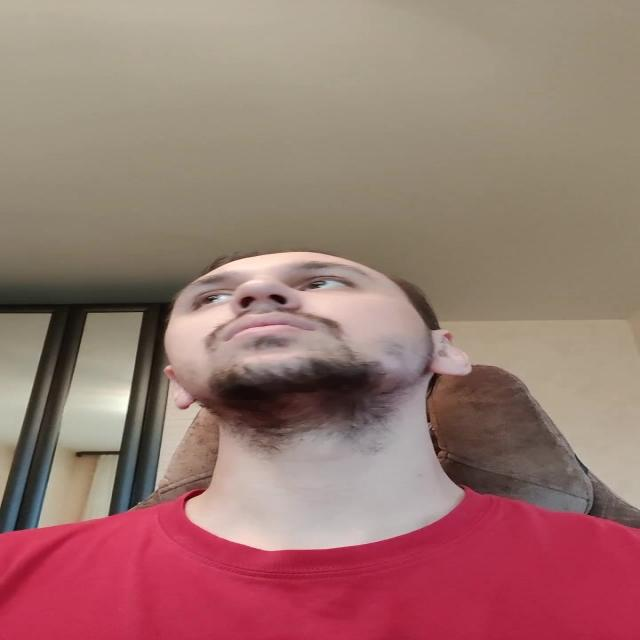earlobe: (430, 365, 472, 377), (175, 396, 197, 410)
eye: (296, 278, 354, 291), (189, 290, 233, 306)
nose: (233, 302, 300, 314)
wholeear: (428, 329, 475, 377), (164, 366, 197, 410)
